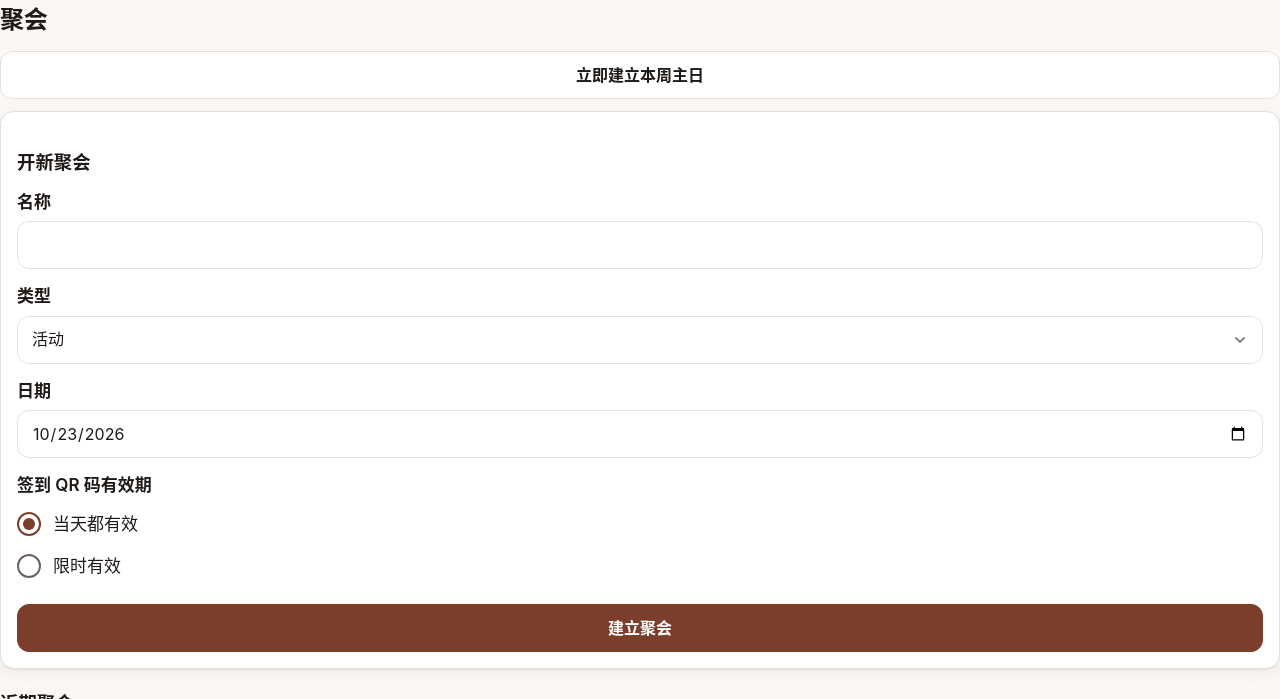
Scenario: MeetingsPage › requires start and end for a time-limited meeting
In the field labelled "名称": (640, 245) 17,221 -> 1263,269, type "祷告会"
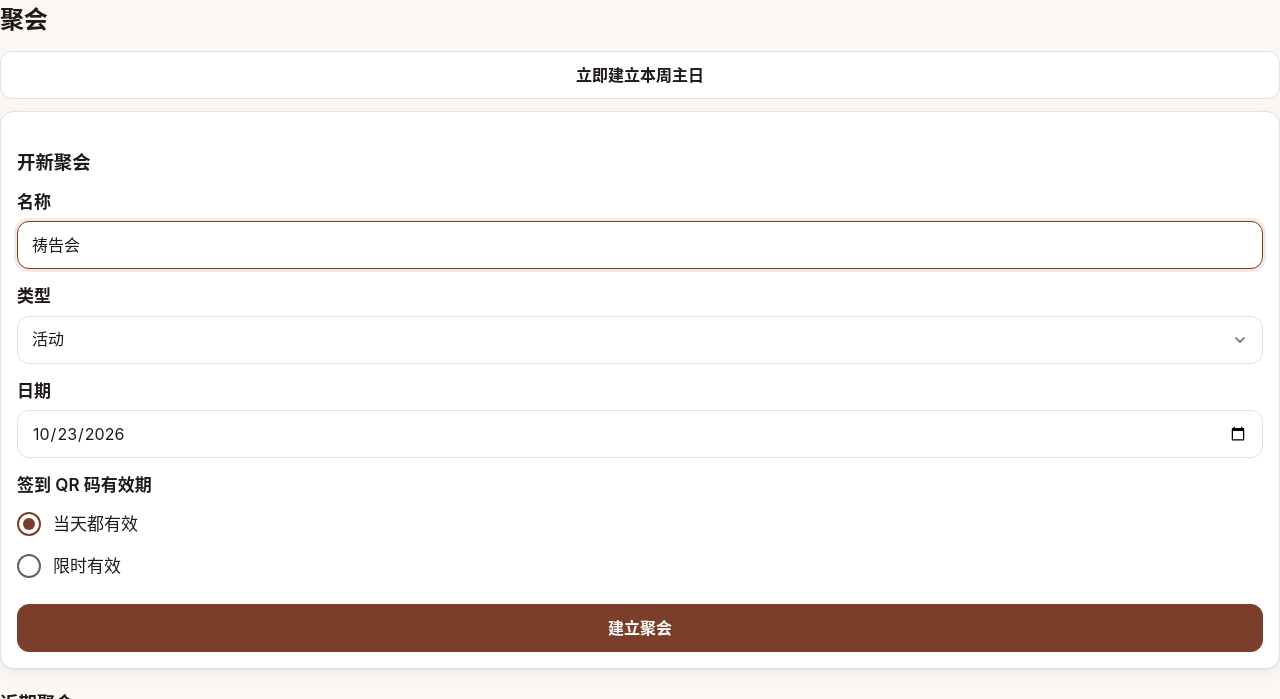
Click the radio button labelled "限时有效": (29, 566) 17,554 -> 41,578
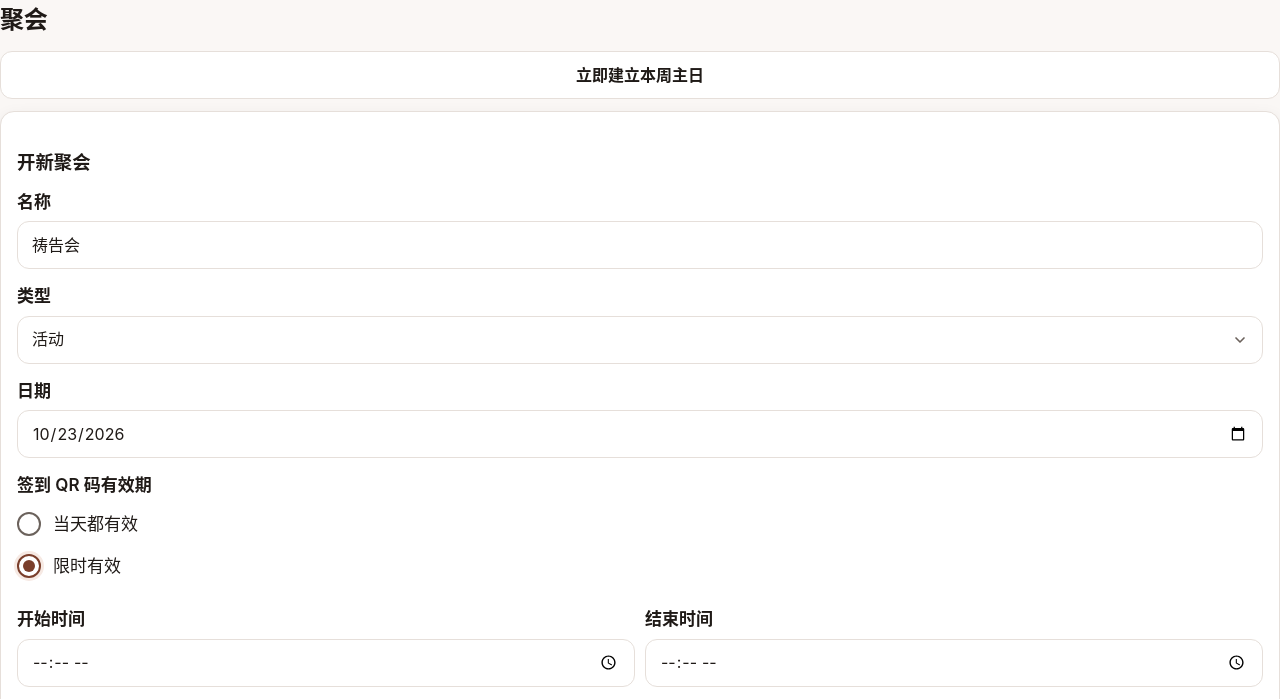
In the time field labelled "开始时间": (326, 663) 17,639 -> 635,687, type "19:30"
(page scrolled)
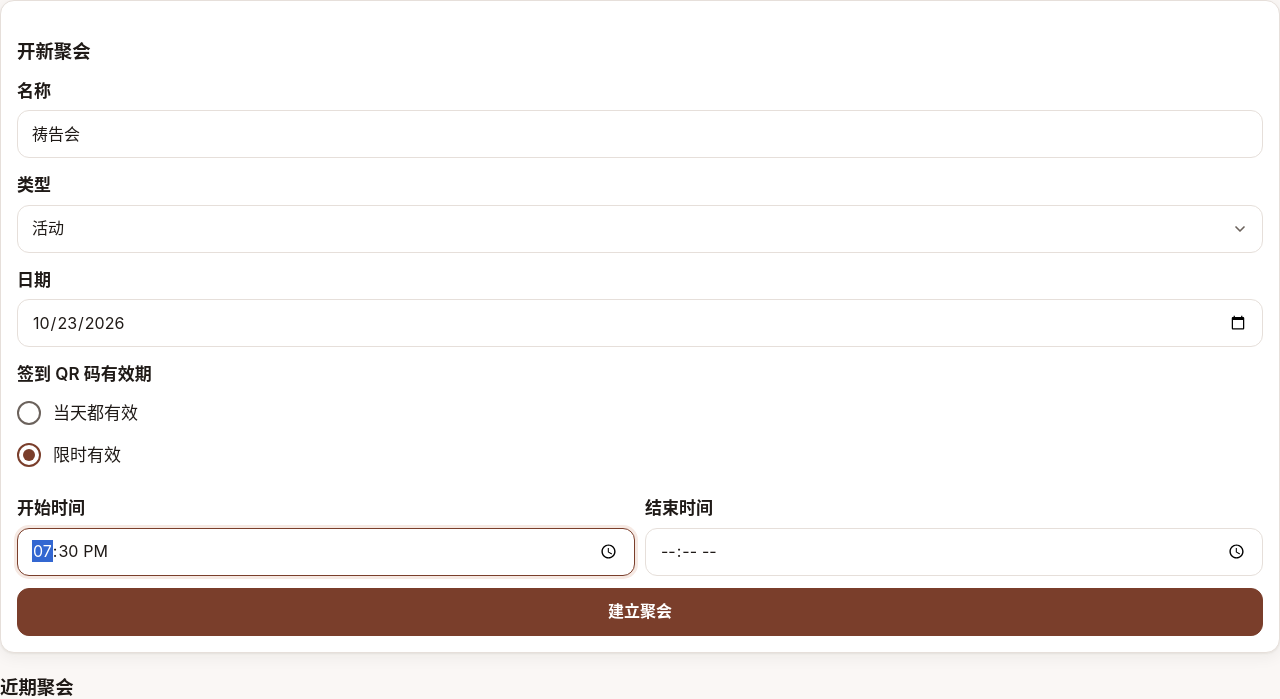
Click the button "建立聚会": (640, 612) 17,588 -> 1263,636
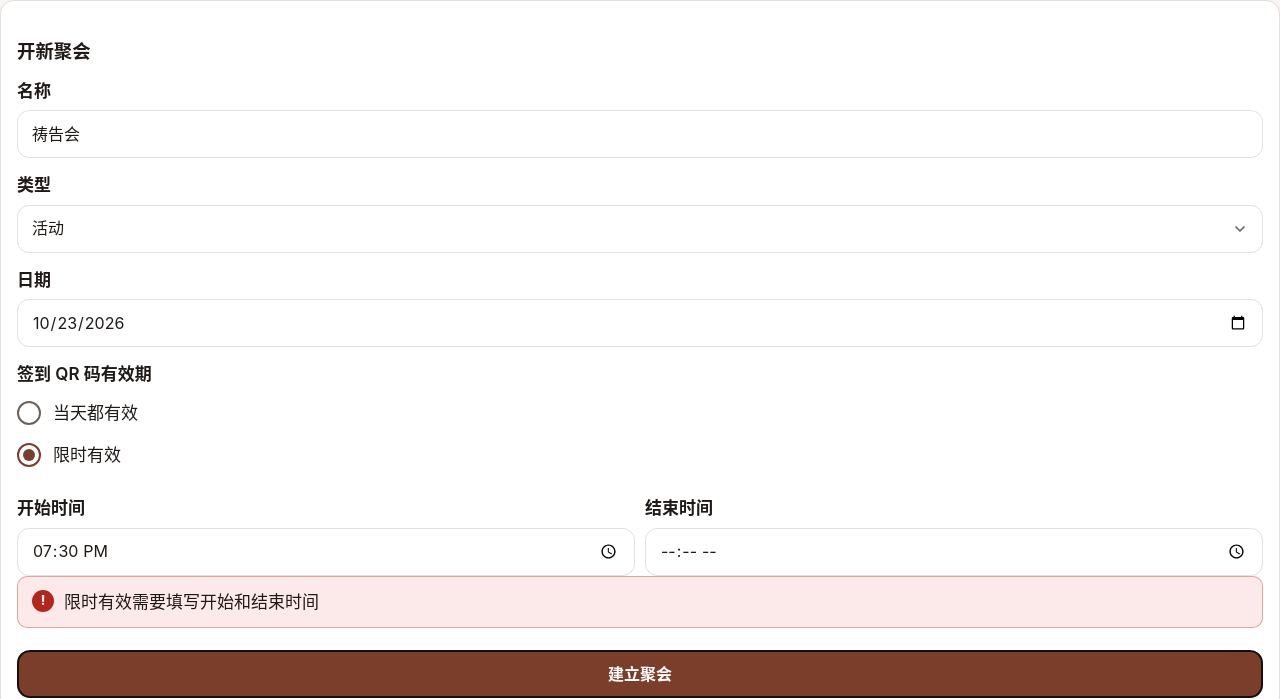
Result: the text "限时有效需要填写开始和结束时间" is shown at 17,576 -> 1263,628
